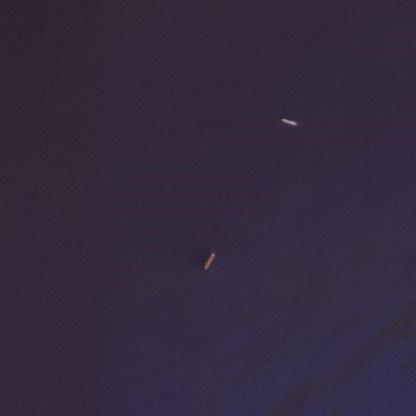ship: (199, 247, 219, 275), (279, 112, 302, 129)
